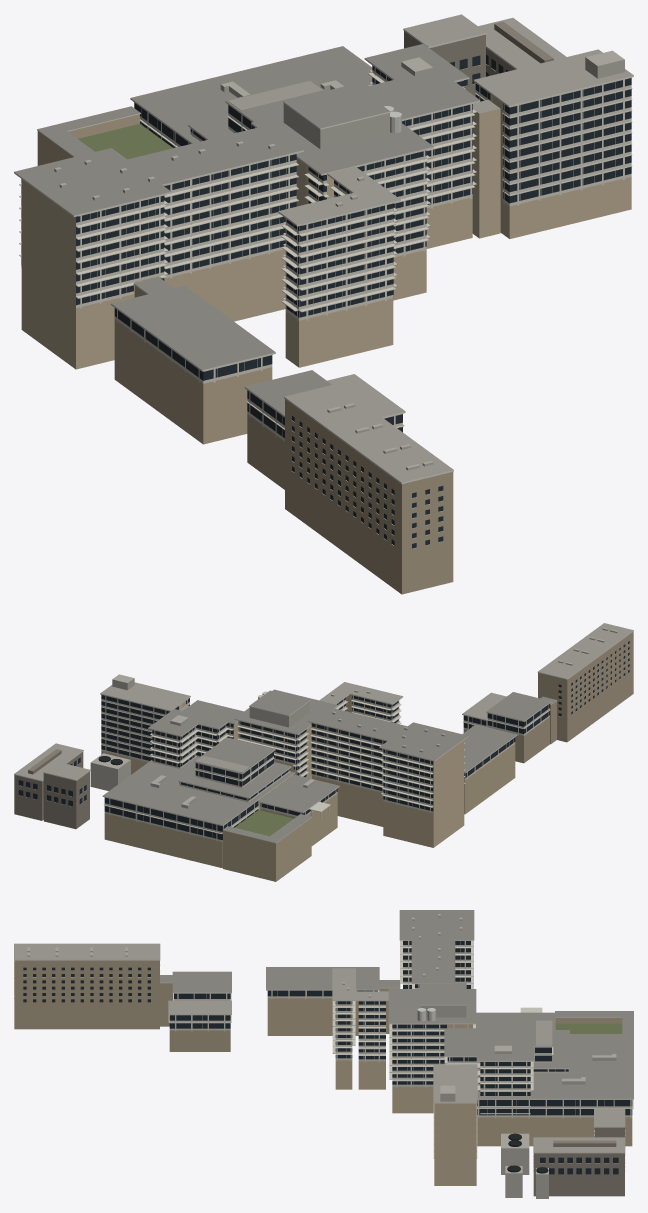
The model's file is uams.glb.
The picture shows the model from 3 angles, top to bottom: view 1: azimuth 30°, elevation 25°; view 2: azimuth 150°, elevation 25°; view 3: azimuth 270°, elevation 25°; orthographic projection. The views are drawn at different scales.
Parts seen in each view (by area): view 1: uams_roof, uams_trim, uams_glass, uams_brick, uams_dorm, uams_roof2, uams_brick2, uams_mech, uams_coping, uams_plant, uams_garden; view 2: uams_roof, uams_glass, uams_trim, uams_brick2, uams_brick, uams_dorm, uams_roof2, uams_plant, uams_mech, uams_coping, uams_garden; view 3: uams_roof, uams_dorm, uams_glass, uams_trim, uams_roof2, uams_brick, uams_brick2, uams_plant, uams_mech, uams_coping, uams_garden.
Part boxes in pixels (bbox=[...]): uams_roof: bbox=[14, 44, 479, 415]; uams_trim: bbox=[19, 62, 632, 548]; uams_glass: bbox=[21, 54, 631, 548]; uams_brick: bbox=[21, 94, 631, 369]; uams_dorm: bbox=[247, 399, 453, 594]; uams_roof2: bbox=[228, 14, 633, 482]; uams_brick2: bbox=[37, 114, 272, 444]; uams_mech: bbox=[54, 50, 624, 470]; uams_coping: bbox=[14, 29, 633, 484]; uams_plant: bbox=[404, 21, 553, 96]; uams_garden: bbox=[78, 123, 173, 159]; uams_roof: bbox=[103, 689, 556, 842]; uams_glass: bbox=[18, 641, 629, 840]; uams_trim: bbox=[19, 644, 629, 841]; uams_brick2: bbox=[104, 744, 515, 881]; uams_brick: bbox=[101, 694, 464, 847]; uams_dorm: bbox=[463, 631, 633, 763]; uams_roof2: bbox=[14, 623, 633, 780]; uams_plant: bbox=[14, 749, 89, 829]; uams_mech: bbox=[90, 627, 617, 808]; uams_coping: bbox=[14, 630, 633, 843]; uams_garden: bbox=[235, 810, 293, 836]; uams_roof: bbox=[160, 910, 633, 1098]; uams_dorm: bbox=[14, 960, 230, 1051]; uams_glass: bbox=[23, 941, 632, 1174]; uams_trim: bbox=[14, 940, 633, 1171]; uams_roof2: bbox=[14, 943, 625, 1152]; uams_brick: bbox=[335, 941, 476, 1185]; uams_brick2: bbox=[267, 988, 632, 1146]; uams_plant: bbox=[533, 1127, 624, 1196]; uams_mech: bbox=[27, 914, 616, 1198]; uams_coping: bbox=[14, 940, 633, 1153]; uams_garden: bbox=[555, 1023, 622, 1033].
Size of the model in its own units: 212 by 53.1 by 285.
